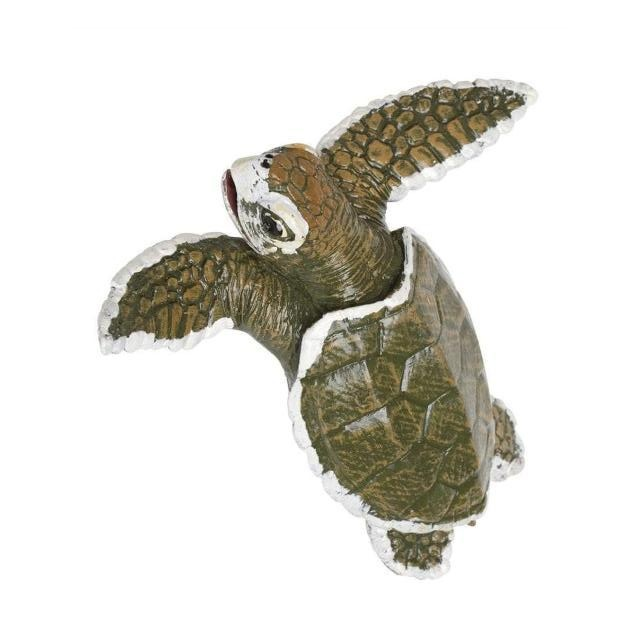turtle: (95, 78, 537, 578)
